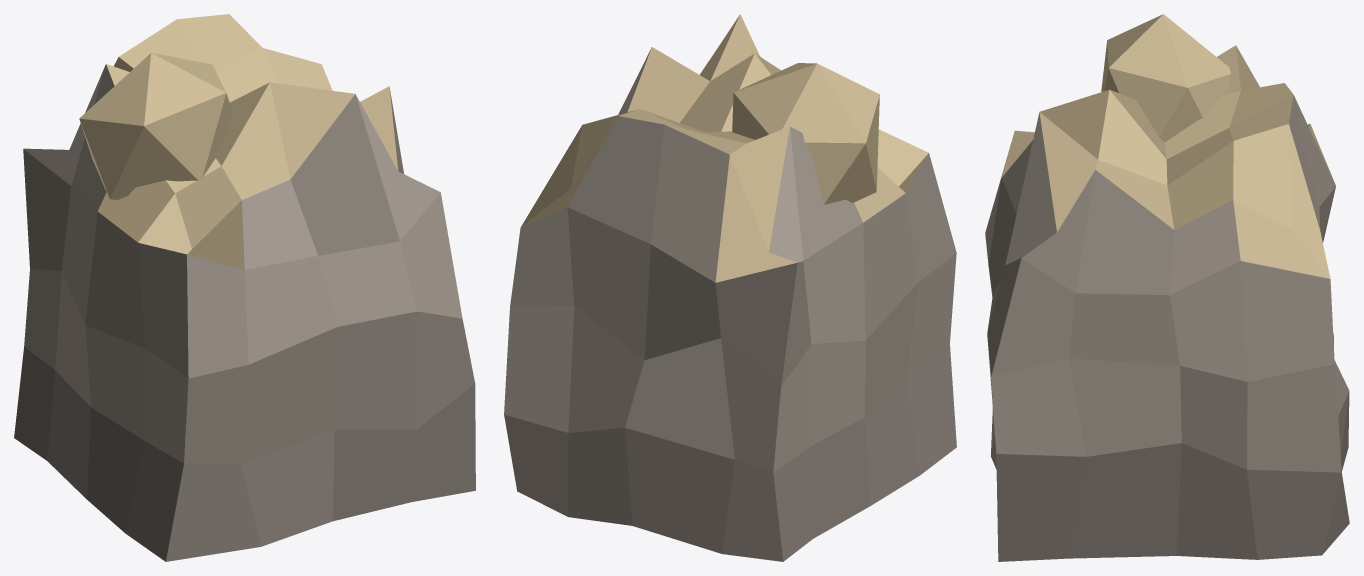
File: rock_2.glb
3 views of the same model, side by side, from view 1: azimuth 30°, elevation 25°; view 2: azimuth 150°, elevation 25°; view 3: azimuth 270°, elevation 25° (orthographic). The views are drawn at different scales.
Parts seen in each view (by area): view 1: rock_2; view 2: rock_2; view 3: rock_2.
Boxes of the visible parts, left/top/right/bottom form: rock_2: left=14, top=14, right=475, bottom=561; rock_2: left=504, top=14, right=956, bottom=561; rock_2: left=985, top=14, right=1349, bottom=561.
Size of the model in its own units: 0.9808 by 1.29 by 0.9912.
